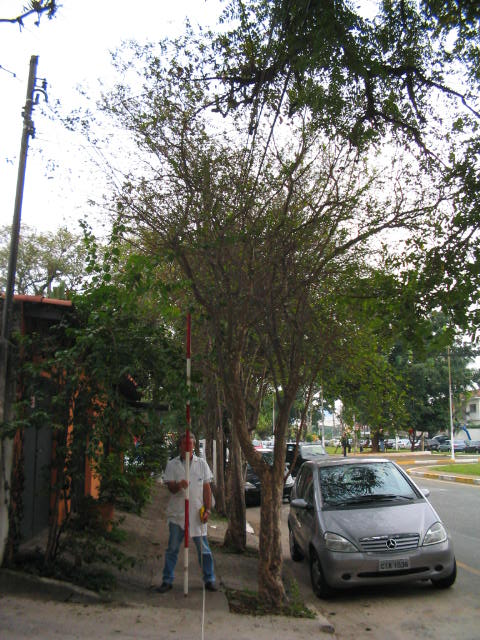stem: (246, 471, 297, 614)
stick: (174, 313, 201, 597)
tree: (55, 19, 446, 615)
